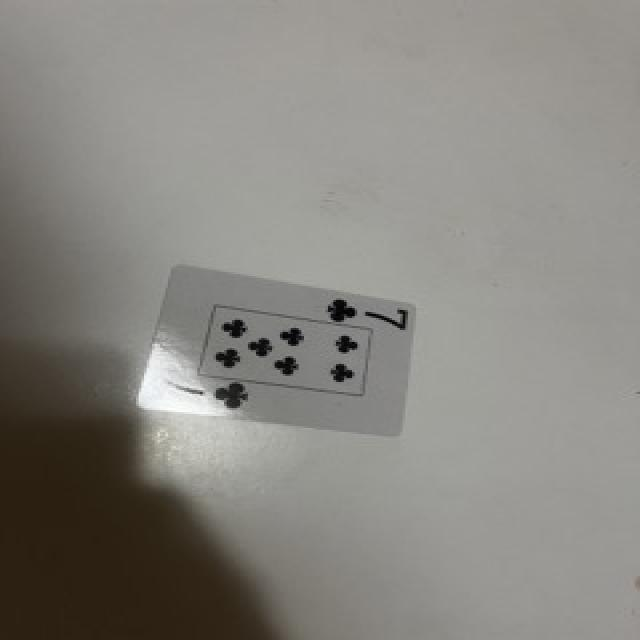7 of clubs: (138, 266, 412, 435)
